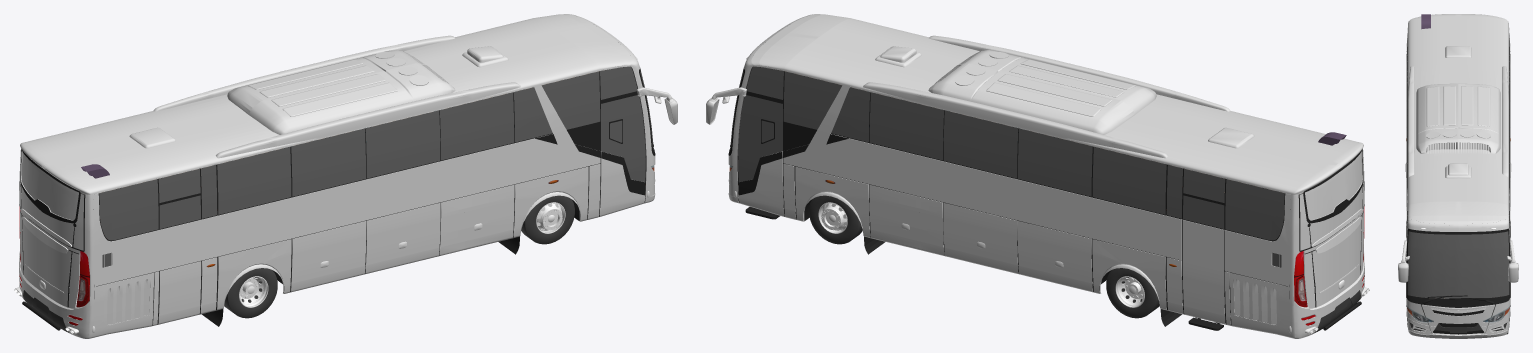
The model's file is autocar.glb.
3 renders of one model, left to right at view 1: azimuth 30°, elevation 25°; view 2: azimuth 150°, elevation 25°; view 3: azimuth 270°, elevation 25°, orthographic. The views are drawn at different scales.
Visible parts, largest first — view 1: plafon, keep-28, lateral-mijloc-dr, lateral-spate-dr, lateral-fata-dr, spate, keep-23, keep-14, keep-5, fata, keep-20, keep-12 (+2 smaller); view 2: plafon, keep-28, lateral-mijloc-st, lateral-spate-st, lateral-fata-st, spate, keep-23, keep-14, keep-5, fata, keep-20, keep-12 (+3 smaller); view 3: plafon, keep-28, fata, keep-23, keep-4, lateral-fata-st, lateral-fata-dr, keep-8, keep-12, keep-17, keep-21, keep-10 (+3 smaller).
Part boxes in pixels (x1=…): plafon: x1=20, y1=14, x2=632, y2=194; keep-28: x1=99, y1=66, x2=653, y2=240; lateral-mijloc-dr: x1=272, y1=104, x2=464, y2=293; lateral-spate-dr: x1=88, y1=151, x2=273, y2=338; lateral-fata-dr: x1=463, y1=35, x2=649, y2=250; spate: x1=19, y1=149, x2=89, y2=338; keep-23: x1=19, y1=66, x2=655, y2=325; keep-14: x1=224, y1=195, x2=574, y2=318; keep-5: x1=239, y1=202, x2=565, y2=307; fata: x1=646, y1=88, x2=677, y2=202; keep-20: x1=535, y1=134, x2=645, y2=195; keep-12: x1=21, y1=184, x2=654, y2=292; plafon: x1=751, y1=14, x2=1363, y2=194; keep-28: x1=730, y1=66, x2=1284, y2=240; lateral-mijloc-st: x1=919, y1=104, x2=1111, y2=293; lateral-spate-st: x1=1110, y1=151, x2=1295, y2=338; lateral-fata-st: x1=734, y1=35, x2=920, y2=250; spate: x1=1294, y1=149, x2=1364, y2=338; keep-23: x1=728, y1=66, x2=1364, y2=325; keep-14: x1=809, y1=195, x2=1159, y2=318; keep-5: x1=818, y1=202, x2=1144, y2=307; fata: x1=706, y1=88, x2=737, y2=202; keep-20: x1=738, y1=134, x2=848, y2=195; keep-12: x1=729, y1=184, x2=1362, y2=292; plafon: x1=1408, y1=14, x2=1508, y2=223; keep-28: x1=1406, y1=35, x2=1510, y2=298; fata: x1=1398, y1=225, x2=1518, y2=338; keep-23: x1=1406, y1=83, x2=1510, y2=332; keep-4: x1=1432, y1=310, x2=1484, y2=334; lateral-fata-st: x1=1458, y1=188, x2=1512, y2=262; lateral-fata-dr: x1=1404, y1=188, x2=1458, y2=262; keep-8: x1=1406, y1=305, x2=1510, y2=322; keep-12: x1=1412, y1=307, x2=1504, y2=331; keep-17: x1=1422, y1=295, x2=1494, y2=304; keep-21: x1=1434, y1=323, x2=1482, y2=331; keep-10: x1=1421, y1=14, x2=1430, y2=29.
Size of the model in its own units: 1 by 0.2935 by 0.2358.
Materials: 7 (2 with a texture image).
